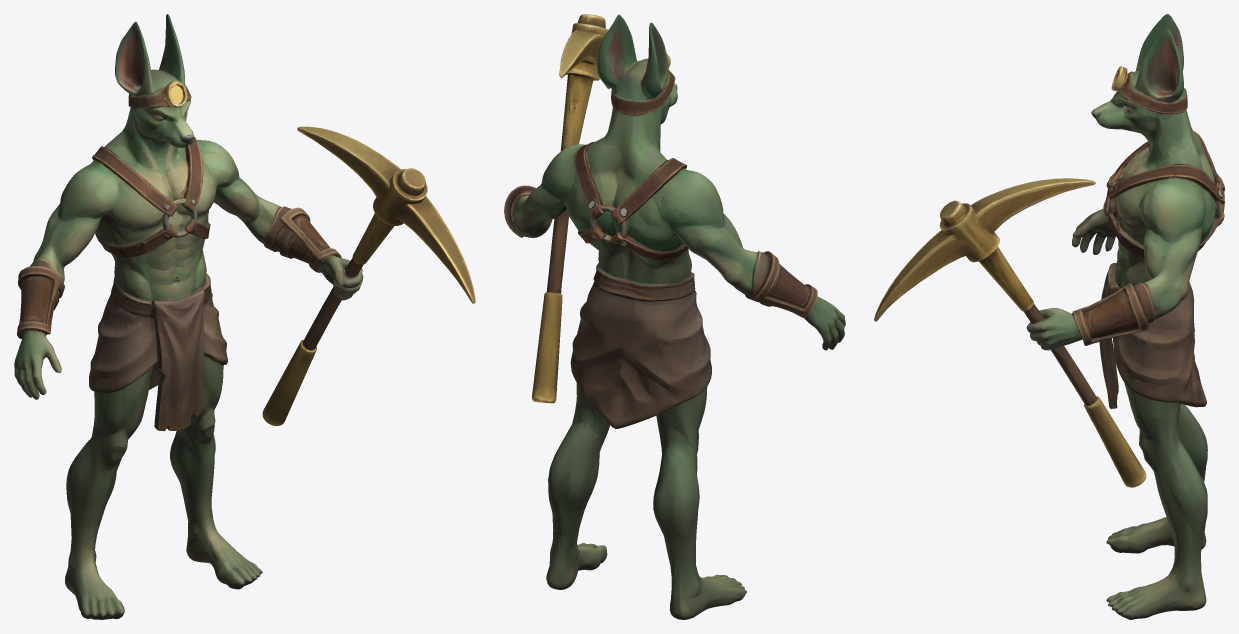
File: et_miner.glb
3 renders of one model, left to right at view 1: azimuth 30°, elevation 25°; view 2: azimuth 150°, elevation 25°; view 3: azimuth 270°, elevation 25°, orthographic. The views are drawn at different scales.
Size of the model in its own units: 1.2 by 1.9 by 1.08.
Materials: 1 (1 with a texture image).
